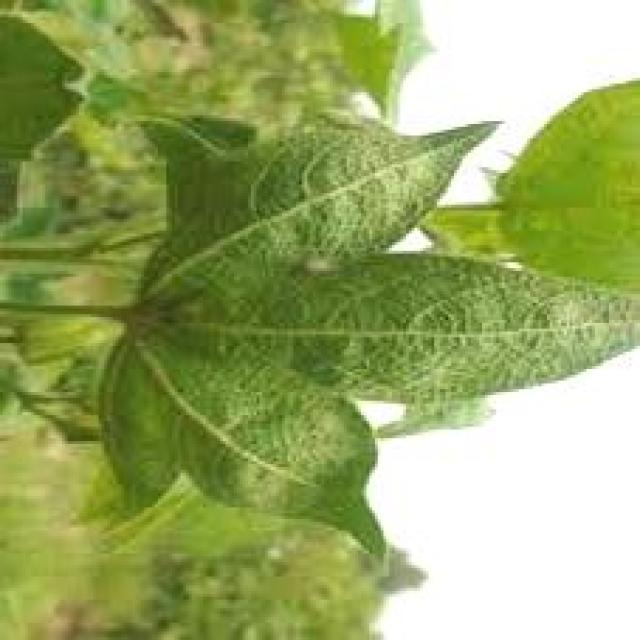Leaf Curl Virus: (200, 141, 494, 434)
